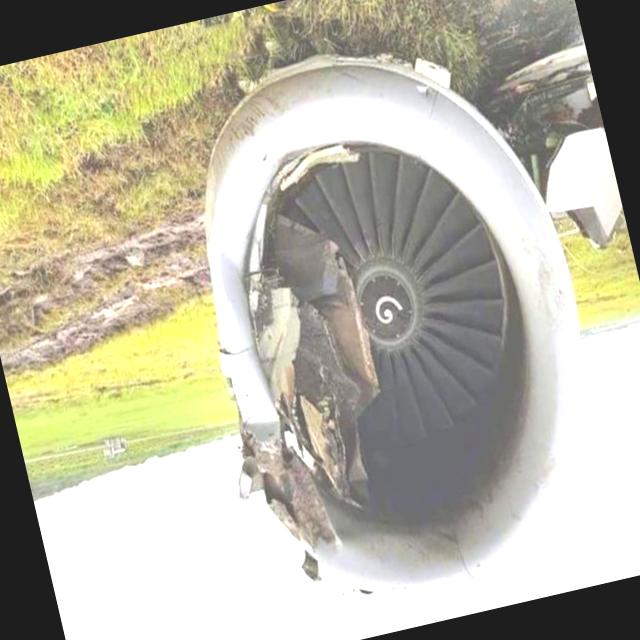dent: (187, 159, 259, 331), (238, 392, 282, 446)
